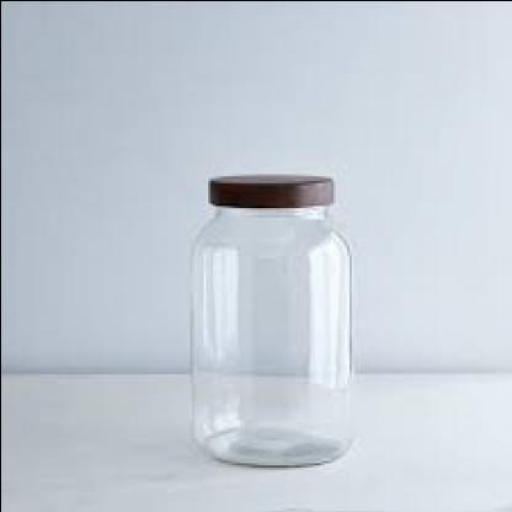glass: (188, 203, 351, 464)
plastic: (212, 170, 334, 208)
